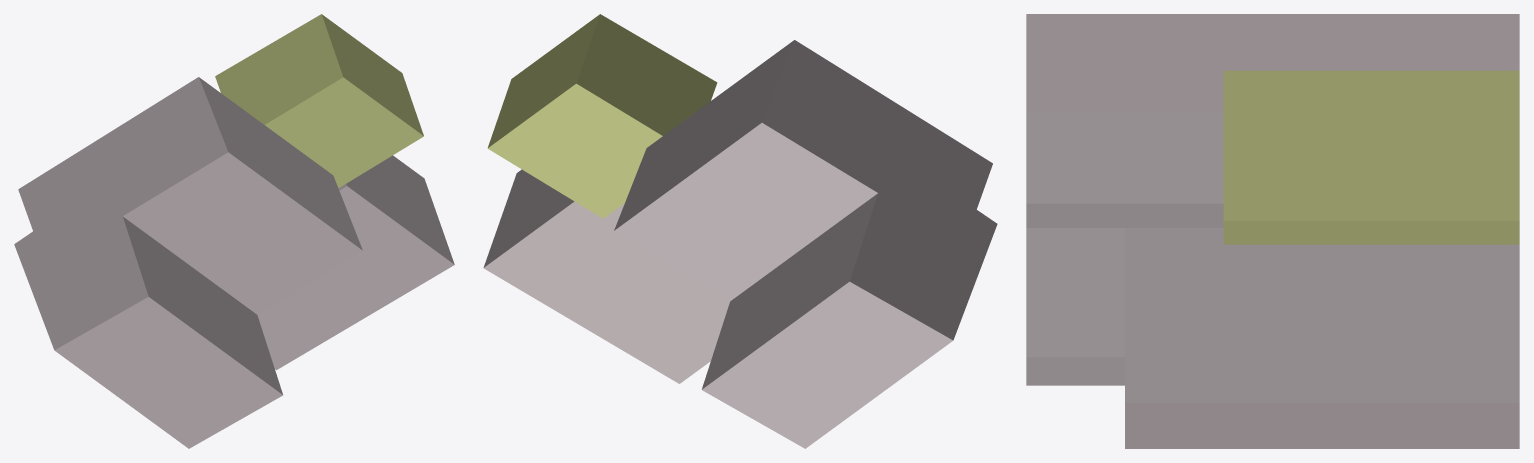
The picture shows the model from 3 angles, left to right: view 1: azimuth 30°, elevation 25°; view 2: azimuth 150°, elevation 25°; view 3: azimuth 270°, elevation 25°; orthographic projection. The views are drawn at different scales.
Parts seen in each view (by area): view 1: 0_1_3_2_2_1_2_2_0_1; view 2: 0_1_3_2_2_1_2_2_0_1; view 3: 0_1_3_2_2_1_2_2_0_1.
Boxes of the visible parts, box(x1,y1,x2,y2) form: 0_1_3_2_2_1_2_2_0_1: box(14, 14, 454, 448); 0_1_3_2_2_1_2_2_0_1: box(483, 14, 997, 448); 0_1_3_2_2_1_2_2_0_1: box(1026, 14, 1519, 448).
Size of the model in its own units: 21.42 by 16.67 by 15.
